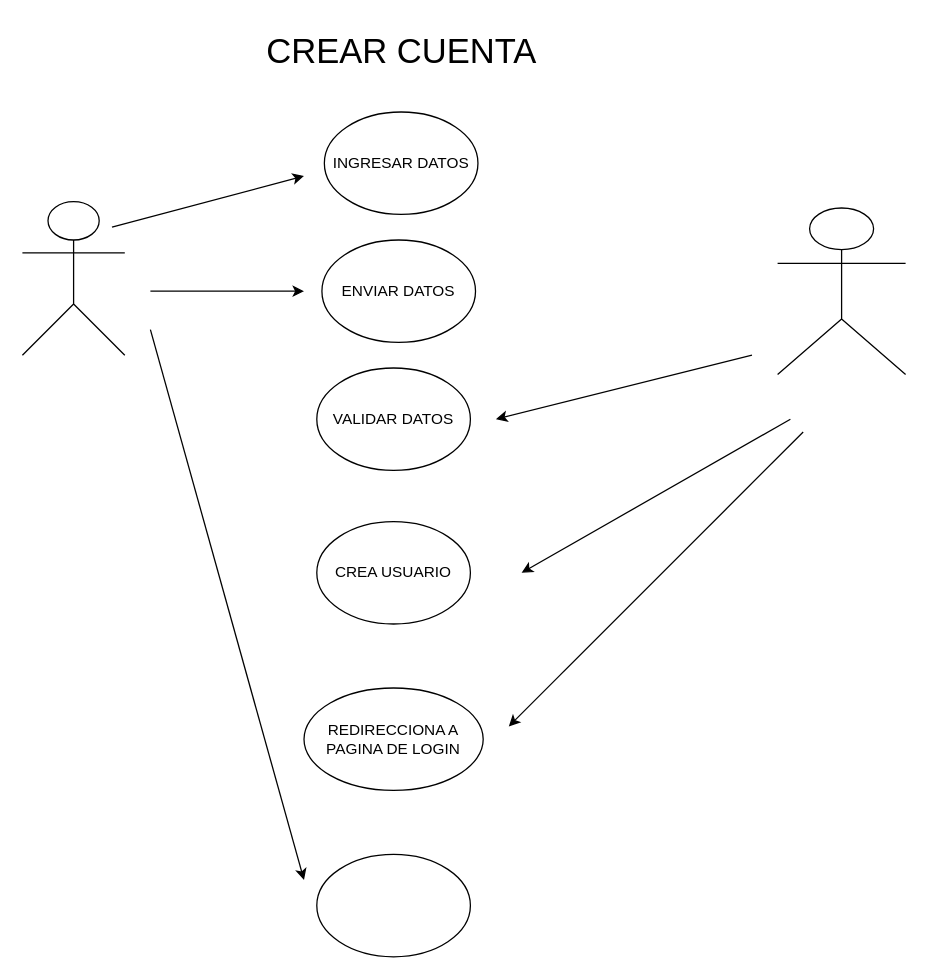
Image size: 950x979. Some labels were removed from this diagram. Each missing label, with the centre of its shape:
"INICIO DE SESIÓN" belongs at [393,905].
"SISTEMA / APLICACION" belongs at [841,290].
"USUARIO" belongs at [73,277].
